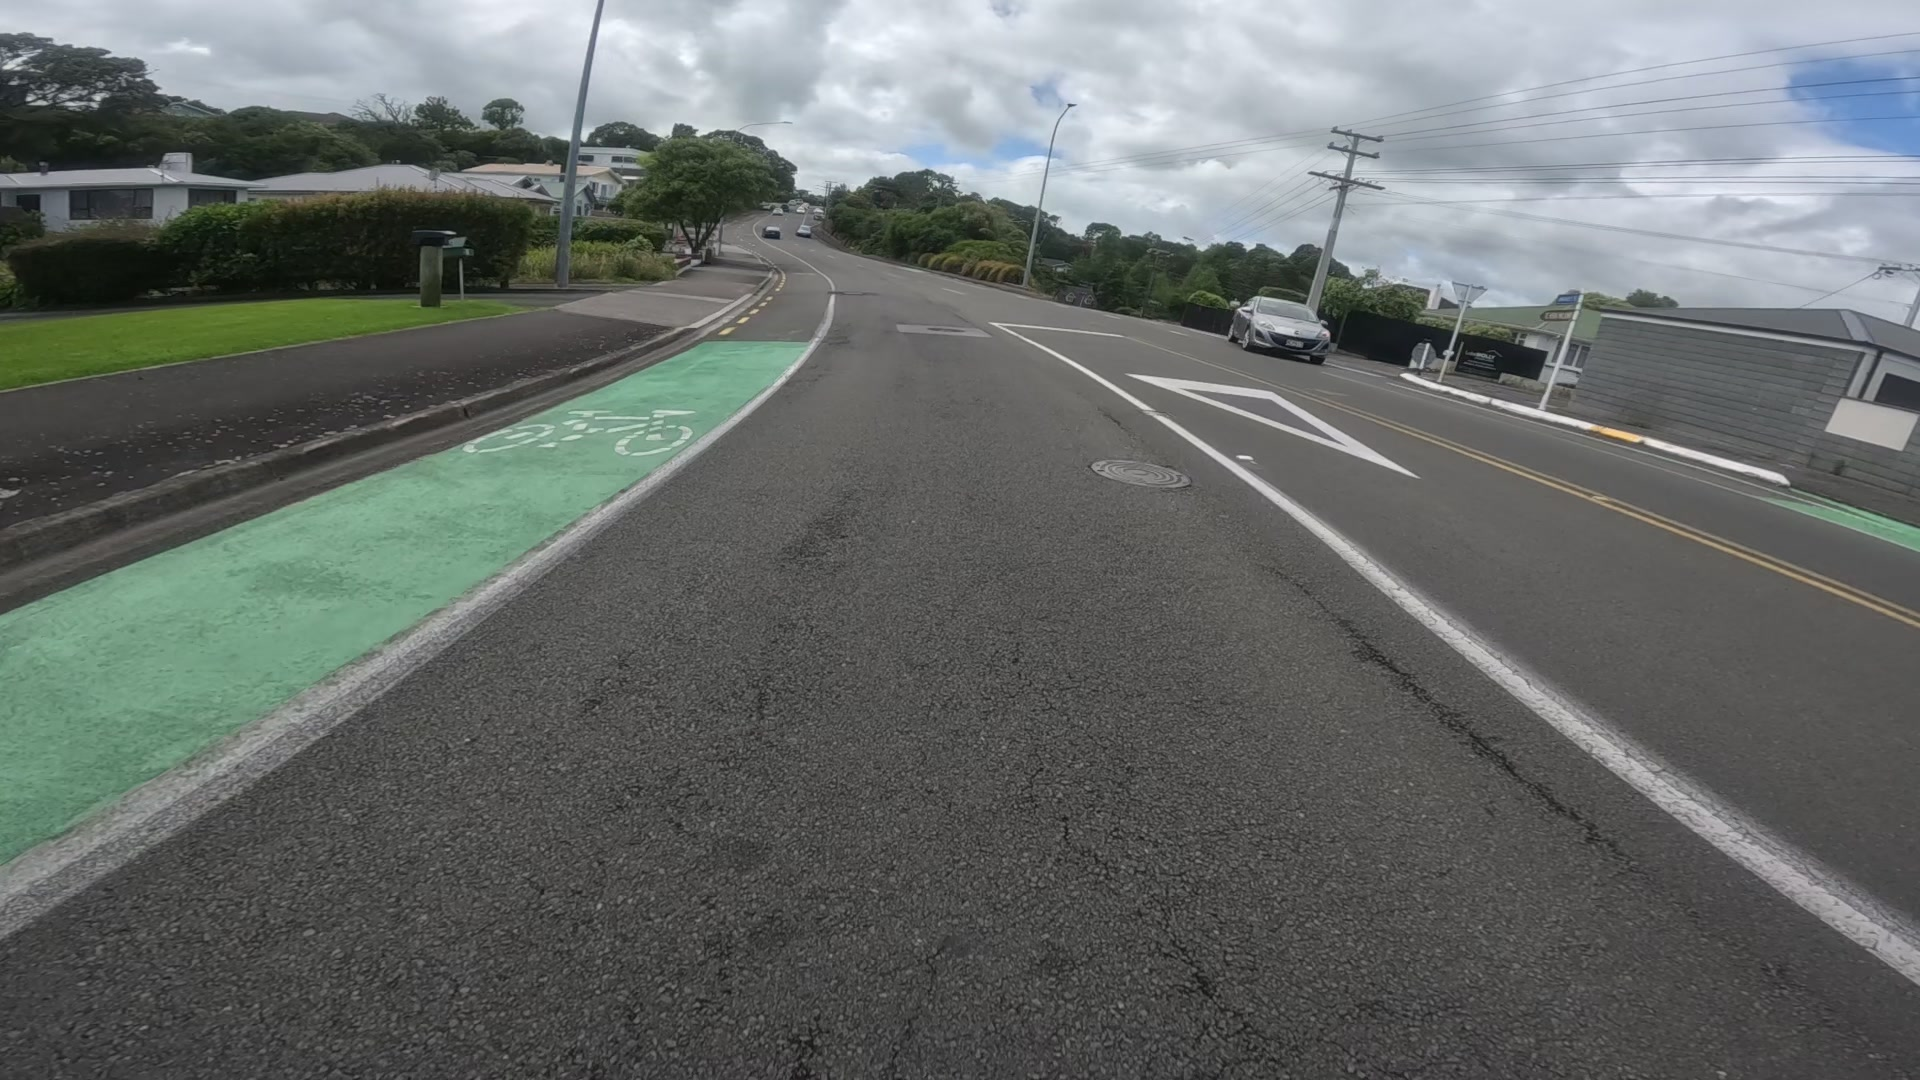Longitudinal_Cracking: (1258, 560, 1585, 861)
